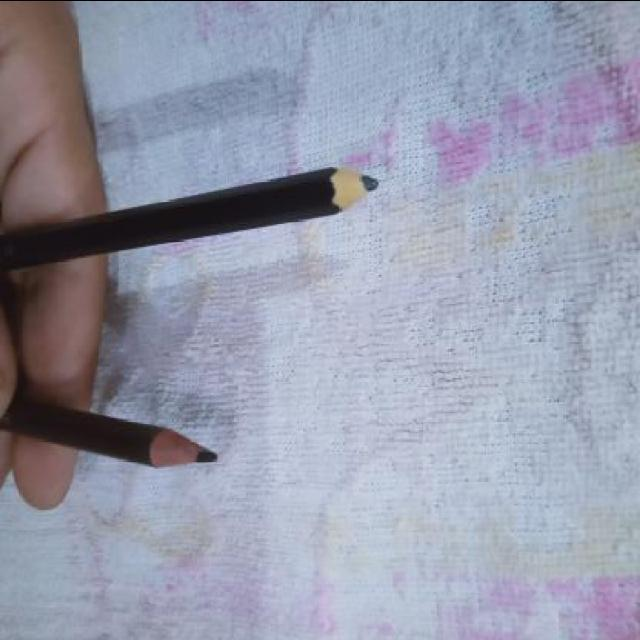pencil: (136, 414, 224, 486), (312, 150, 386, 226)
